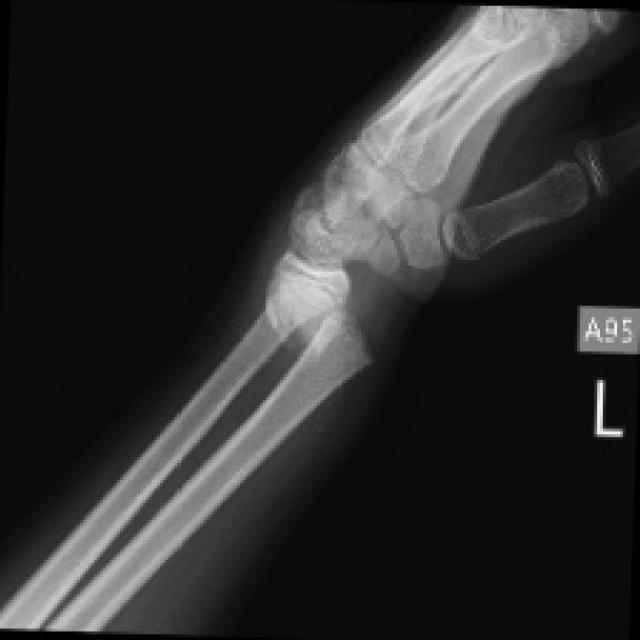fracture: (307, 242, 492, 402)
